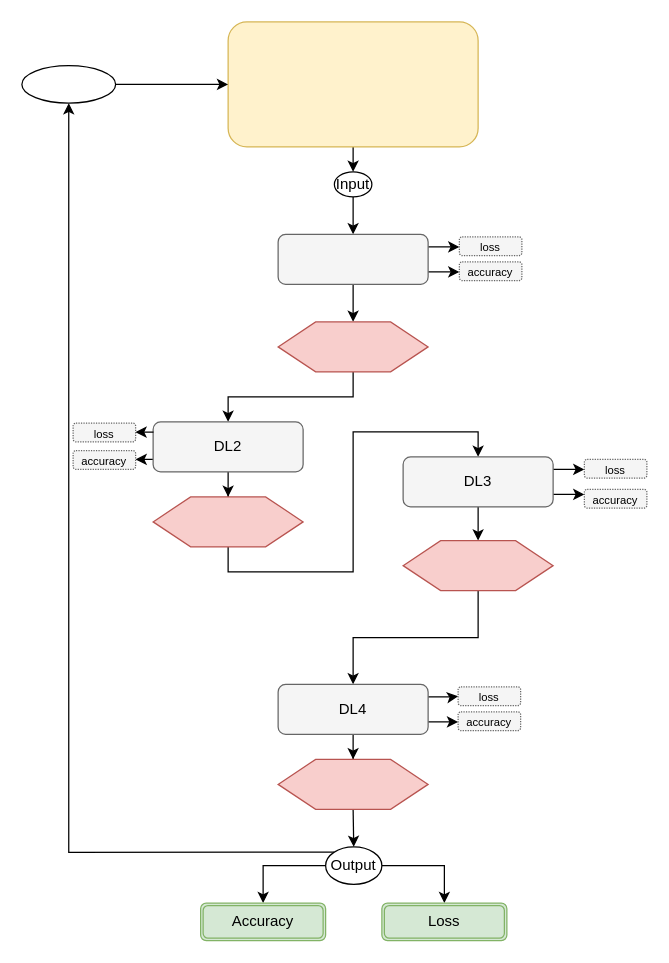
The diagram is 669 pixels wide and 963 high, and some of its shapes have lost their labels. Here are the shapes that lost their labels. From the top down, the box of each, then its label:
(21, 64, 116, 103): next epoch
(227, 21, 478, 147): Dataset
(277, 233, 428, 284): DL1
(277, 321, 428, 372): DOL1
(152, 496, 303, 547): DOL2
(402, 539, 553, 591): DOL3
(277, 758, 428, 809): DOL4
